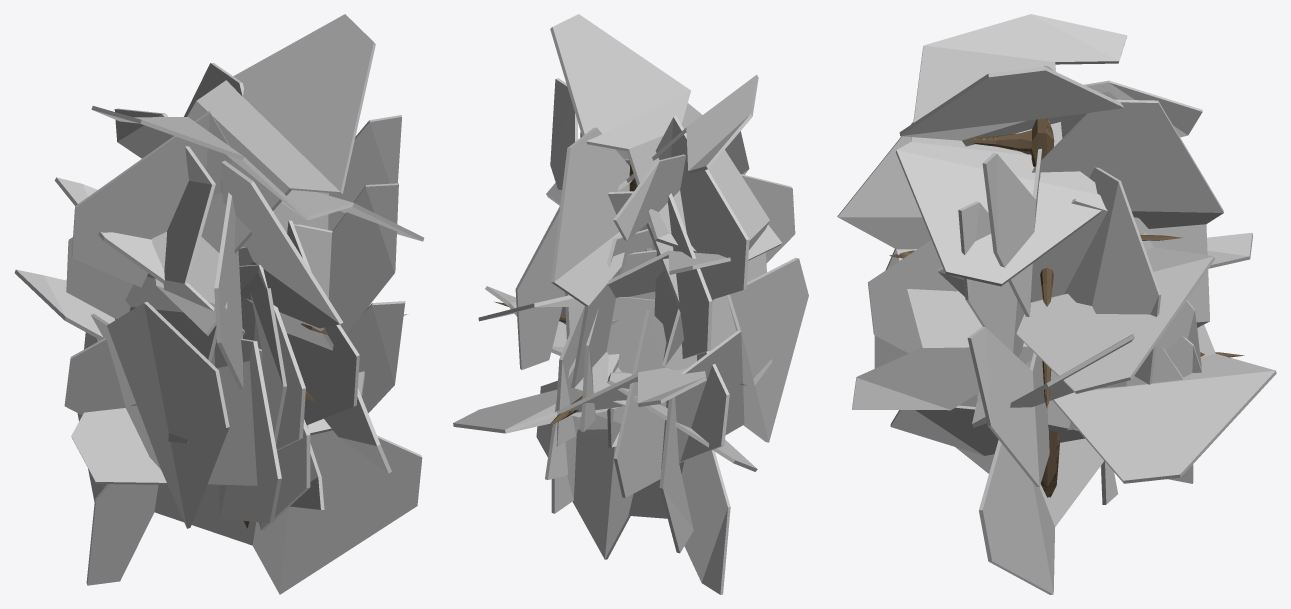
Rendered from Bush_LOD0.fbx.
The picture shows the model from 3 angles, left to right: view 1: azimuth 30°, elevation 25°; view 2: azimuth 150°, elevation 25°; view 3: azimuth 270°, elevation 25°; orthographic projection. The views are drawn at different scales.
Parts seen in each view (by area): view 1: bush|Tree Branch|Dupli|11, bush|Tree Branch|Dupli|1, bush|Tree Branch|Dupli|15, bush|Tree Branch|Dupli|10, bush|Tree Branch|Dupli|8, bush|Tree Branch|Dupli|14, bush|Tree Branch|Dupli|19, bush|Tree Branch|Dupli|4, bush|Tree Branch|Dupli|16, bush|Tree Branch|Dupli|3, bush|Tree Branch|Dupli|2, bush|Tree Branch|Dupli|7 (+8 smaller); view 2: bush|Tree Branch|Dupli|15, bush|Tree Branch|Dupli|11, bush|Tree Branch|Dupli|12, bush|Tree Branch|Dupli|1, bush|Tree Branch|Dupli|19, bush|Tree Branch|Dupli|10, bush|Tree Branch|Dupli|18, bush|Tree Branch|Dupli|17, bush|Tree Branch|Dupli|16, bush|Tree Branch|Dupli|8, bush|Tree Branch|Dupli|9, bush|Tree Branch|Dupli|2 (+8 smaller); view 3: bush|Tree Branch|Dupli|9, bush|Tree Branch|Dupli|17, bush|Tree Branch|Dupli|14, bush|Tree Branch|Dupli|12, bush|Tree Branch|Dupli|13, bush|Tree Branch|Dupli|1, bush|Tree Branch|Dupli|11, bush|Tree Branch|Dupli|18, bush|Tree Branch|Dupli|4, bush|Tree Branch|Dupli|5, bush|Tree Branch|Dupli|7, bush|Tree Branch|Dupli|10 (+7 smaller).
Part boxes in pixels (bbox=[...]): bush|Tree Branch|Dupli|11: bbox=[152, 14, 375, 335]; bush|Tree Branch|Dupli|1: bbox=[86, 430, 422, 594]; bush|Tree Branch|Dupli|15: bbox=[77, 301, 229, 528]; bush|Tree Branch|Dupli|10: bbox=[72, 111, 401, 287]; bush|Tree Branch|Dupli|8: bbox=[66, 183, 398, 333]; bush|Tree Branch|Dupli|14: bbox=[221, 160, 391, 473]; bush|Tree Branch|Dupli|19: bbox=[114, 108, 216, 443]; bush|Tree Branch|Dupli|4: bbox=[64, 301, 405, 415]; bush|Tree Branch|Dupli|16: bbox=[207, 288, 286, 485]; bush|Tree Branch|Dupli|3: bbox=[71, 371, 364, 485]; bush|Tree Branch|Dupli|2: bbox=[214, 339, 281, 523]; bush|Tree Branch|Dupli|7: bbox=[238, 247, 359, 424]; bush|Tree Branch|Dupli|15: bbox=[659, 257, 808, 553]; bush|Tree Branch|Dupli|11: bbox=[550, 14, 781, 260]; bush|Tree Branch|Dupli|12: bbox=[551, 127, 629, 405]; bush|Tree Branch|Dupli|1: bbox=[536, 380, 730, 594]; bush|Tree Branch|Dupli|19: bbox=[613, 150, 771, 385]; bush|Tree Branch|Dupli|10: bbox=[550, 78, 749, 299]; bush|Tree Branch|Dupli|18: bbox=[515, 174, 795, 369]; bush|Tree Branch|Dupli|17: bbox=[453, 367, 706, 433]; bush|Tree Branch|Dupli|16: bbox=[614, 310, 666, 497]; bush|Tree Branch|Dupli|8: bbox=[580, 132, 712, 360]; bush|Tree Branch|Dupli|9: bbox=[546, 74, 758, 205]; bush|Tree Branch|Dupli|2: bbox=[545, 297, 654, 479]; bush|Tree Branch|Dupli|9: bbox=[896, 14, 1127, 286]; bush|Tree Branch|Dupli|17: bbox=[1052, 232, 1276, 483]; bush|Tree Branch|Dupli|14: bbox=[837, 122, 1033, 410]; bush|Tree Branch|Dupli|12: bbox=[1032, 99, 1223, 327]; bush|Tree Branch|Dupli|13: bbox=[1016, 232, 1214, 393]; bush|Tree Branch|Dupli|1: bbox=[979, 438, 1117, 594]; bush|Tree Branch|Dupli|11: bbox=[899, 66, 1123, 146]; bush|Tree Branch|Dupli|18: bbox=[1064, 167, 1161, 384]; bush|Tree Branch|Dupli|4: bbox=[967, 327, 1049, 486]; bush|Tree Branch|Dupli|5: bbox=[890, 198, 1107, 455]; bush|Tree Branch|Dupli|7: bbox=[867, 217, 1198, 353]; bush|Tree Branch|Dupli|10: bbox=[982, 65, 1053, 316].
Size of the model in its own units: 65.77 by 116 by 82.78.
